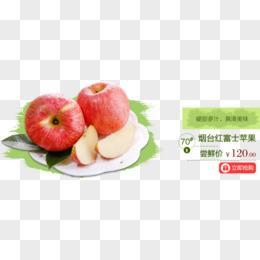apple: (23, 93, 85, 149), (76, 81, 129, 135), (92, 120, 138, 159), (70, 124, 98, 165)
